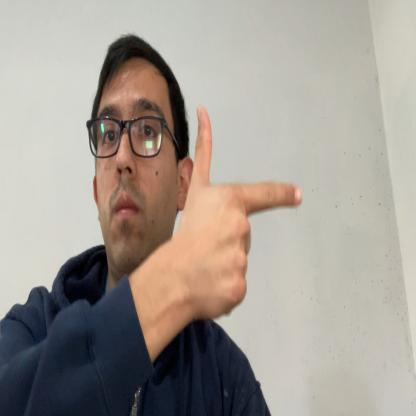G: (182, 104, 302, 320)
